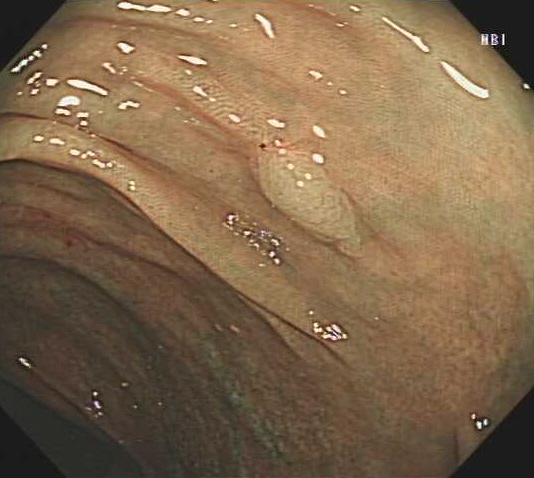adenoma: (244, 142, 366, 259)
